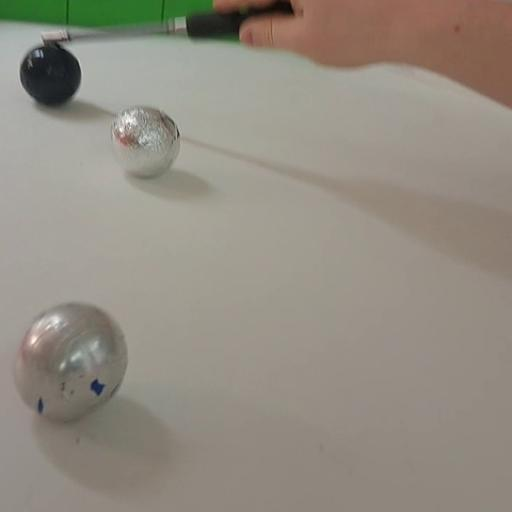alive: (12, 299, 130, 426), (110, 104, 182, 177)
dead: (18, 41, 84, 107)
